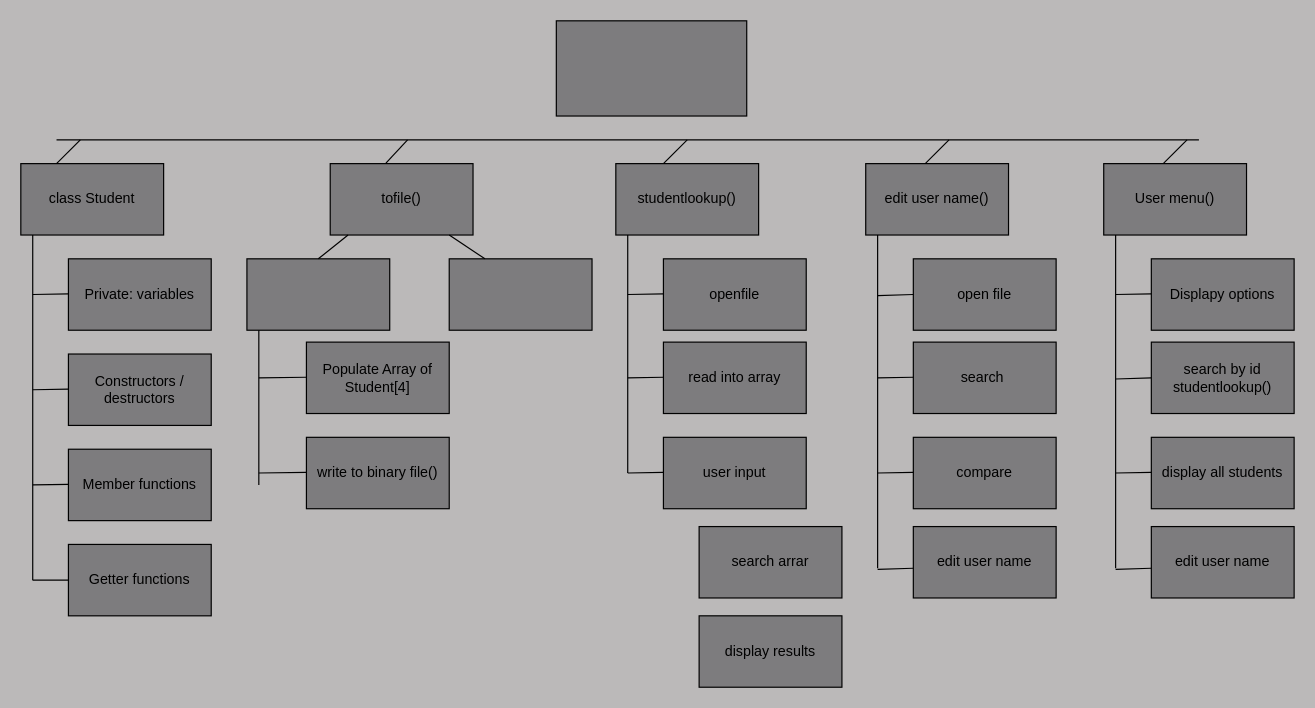
Some shapes in this 1315 by 708 pixel diagram are drawn without their labels. The centre of each missing label's shape, as x and y in pixels:
else: the point at 520,294
if is open: the point at 318,294
Student Access Database: the point at 651,68
